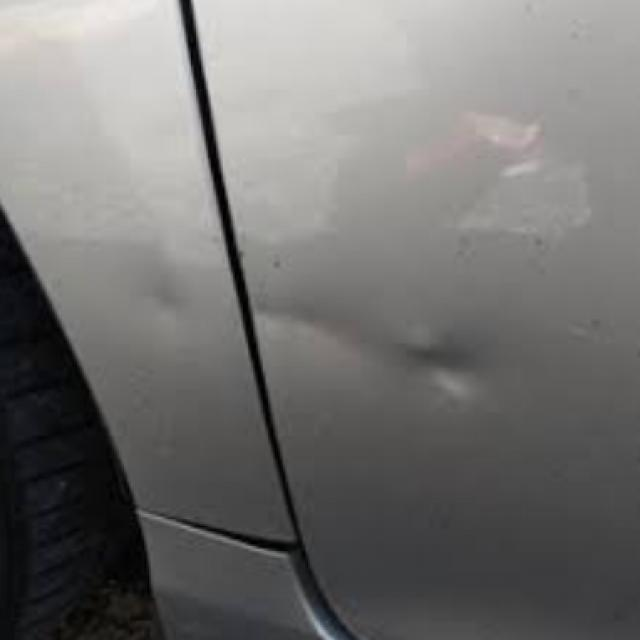dents: (227, 265, 362, 384), (118, 263, 228, 369), (403, 332, 514, 434)
